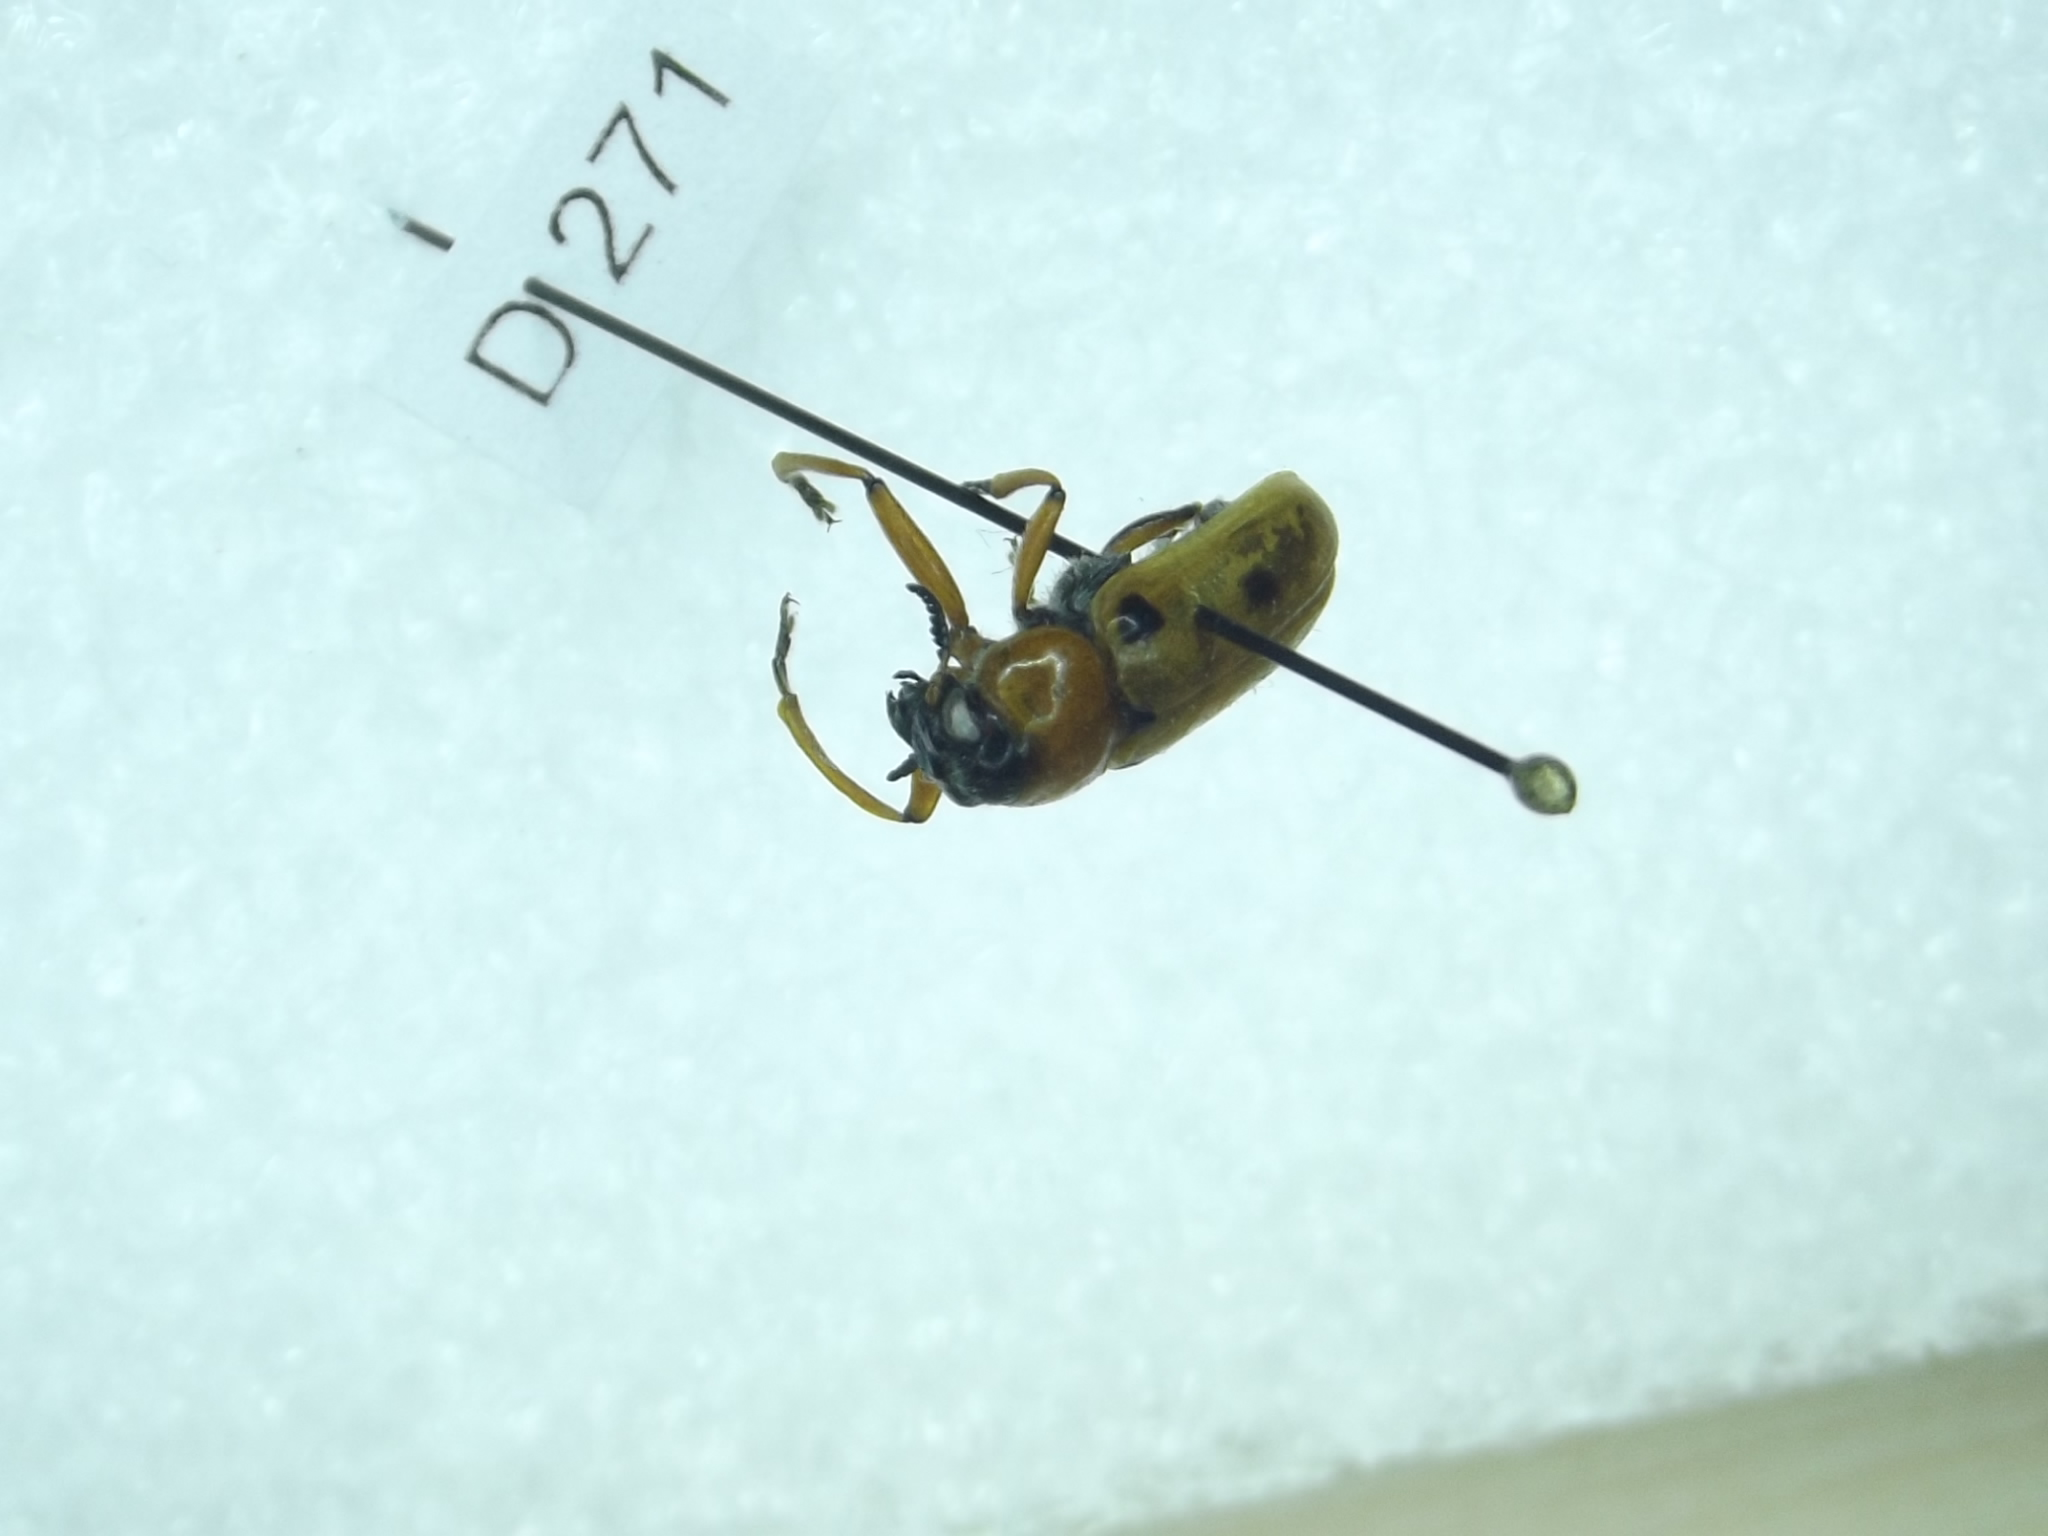Tituboea_macropus: (726, 411, 1356, 836)
